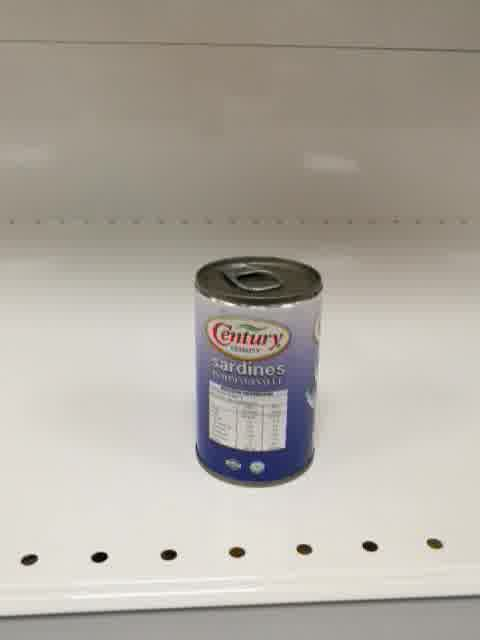sardine: (192, 253, 322, 490)
